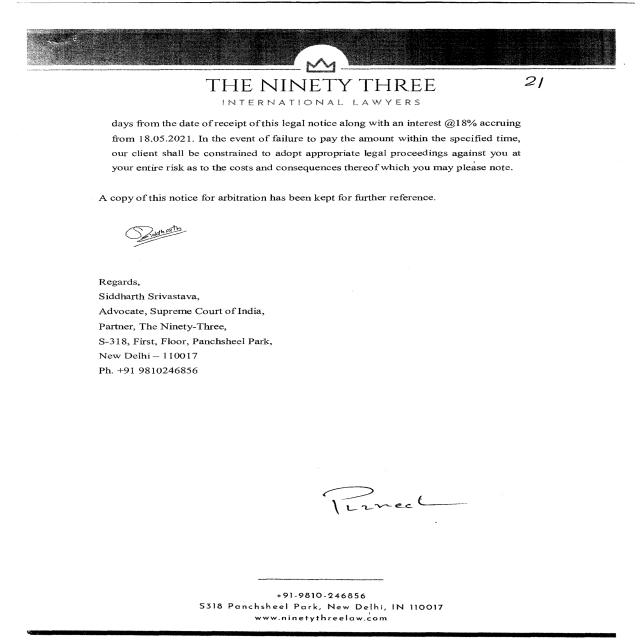page-number: (440, 72, 637, 117)
